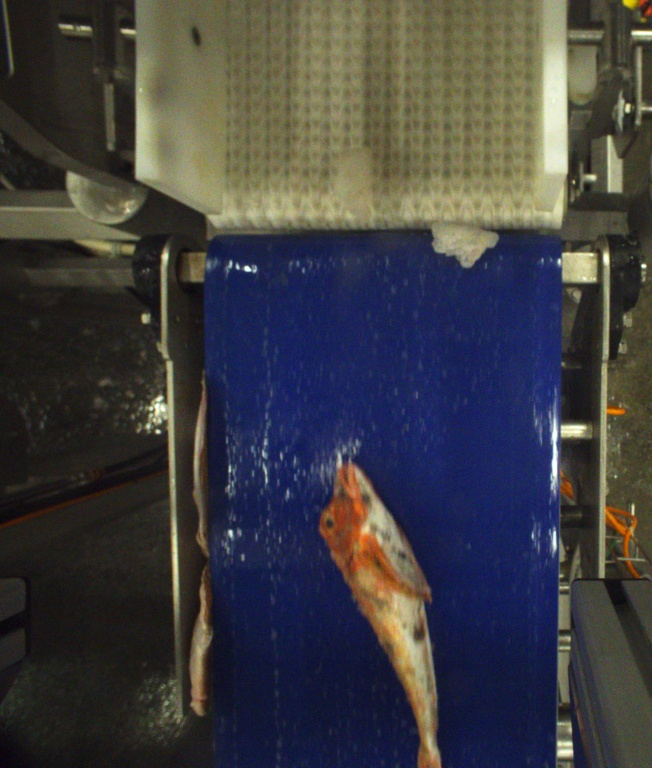GUU: (318, 464, 444, 768)
